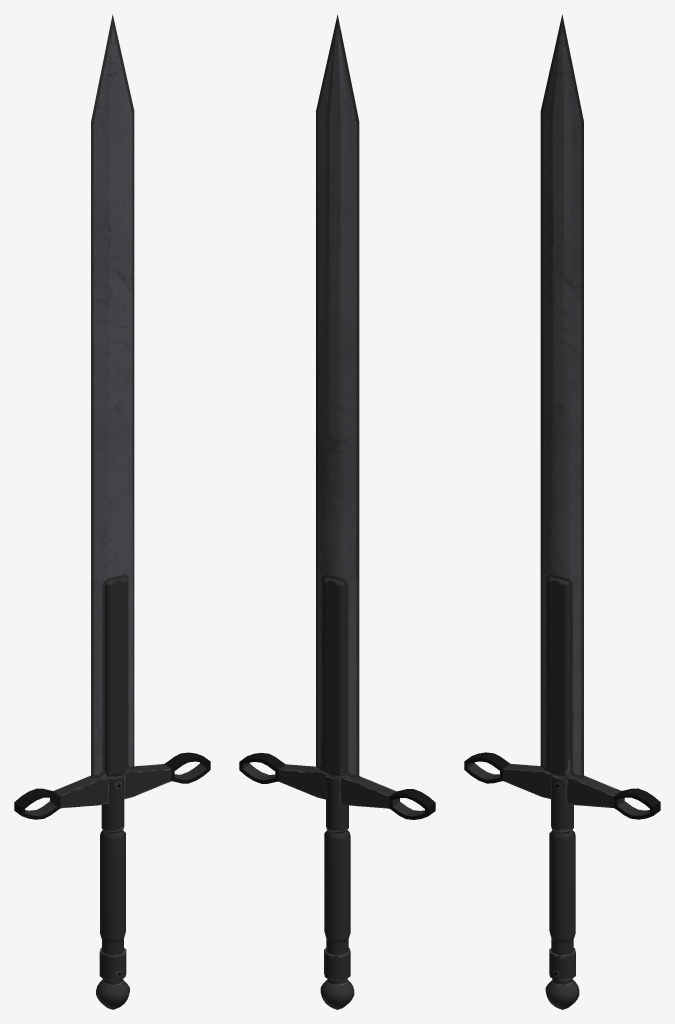
The model's file is longsword.fbx.
3 views of the same model, side by side, from view 1: azimuth 30°, elevation 25°; view 2: azimuth 150°, elevation 25°; view 3: azimuth 330°, elevation 25° (orthographic).
Parts seen in each view (by area): view 1: defaultMaterial; view 2: defaultMaterial; view 3: defaultMaterial.
Boxes of the visible parts, x1=… form: defaultMaterial: x1=14, y1=14, x2=210, y2=1009; defaultMaterial: x1=239, y1=15, x2=435, y2=1009; defaultMaterial: x1=464, y1=14, x2=660, y2=1009.
Bounding box in the file's own units: 19.91 × 100 × 3.15.
1 material, 1 textured.
